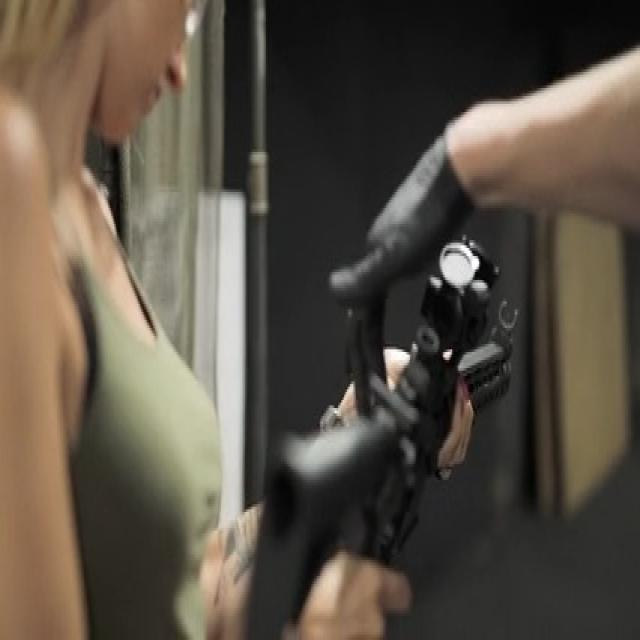Gun_Holder: (207, 229, 640, 640)
Person: (0, 0, 288, 639)
